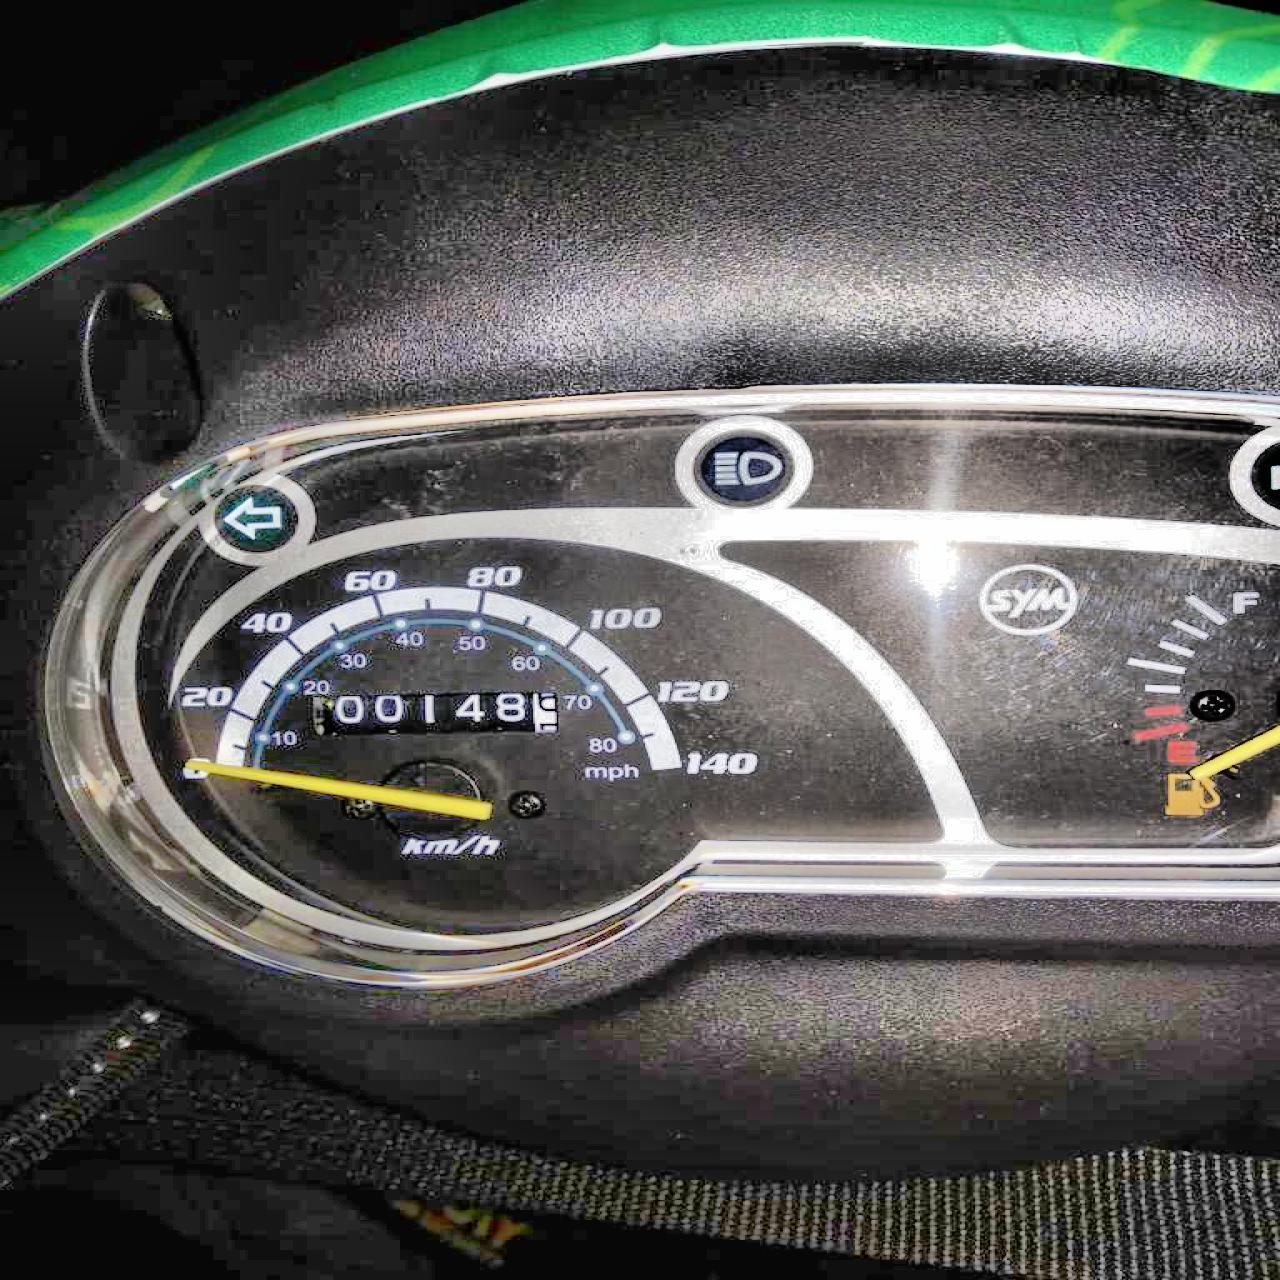0: (333, 695, 362, 723), (372, 694, 402, 721)
1: (422, 694, 434, 722)
4: (454, 693, 483, 722)
6: (537, 688, 558, 710)
8: (493, 693, 524, 720)
odometer: (308, 688, 558, 737)
